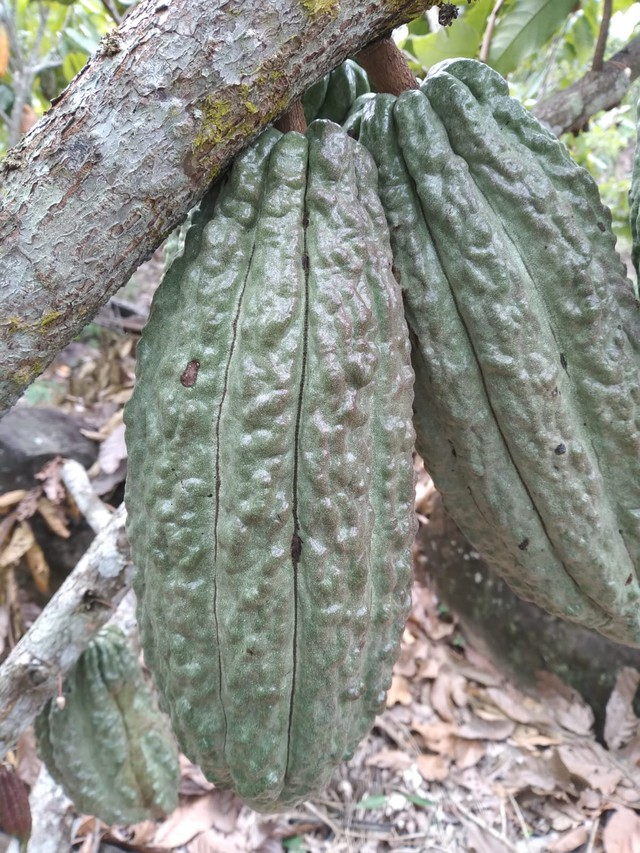Health: (114, 116, 428, 820)
